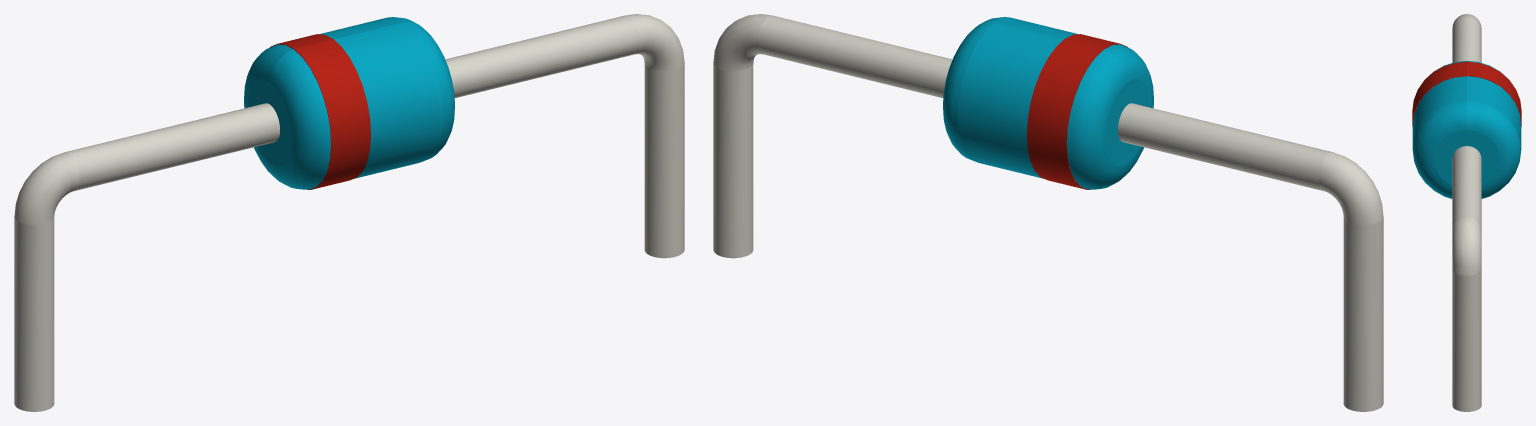
The model's file is kc-d_t-1_p12.70mm_horizontal.glb.
3 views of the same model, side by side, from view 1: azimuth 30°, elevation 25°; view 2: azimuth 150°, elevation 25°; view 3: azimuth 270°, elevation 25° (orthographic). The views are drawn at different scales.
Visible parts, largest first — view 1: 0.6666666666666666_0.6666666666666666_0.5833333333333334_0.8, 0_0.3333333333333333_0.5_0, 0.4166666666666667_0_0_0; view 2: 0.6666666666666666_0.6666666666666666_0.5833333333333334_0.8, 0_0.3333333333333333_0.5_0, 0.4166666666666667_0_0_0; view 3: 0_0.3333333333333333_0.5_0, 0.6666666666666666_0.6666666666666666_0.5833333333333334_0.8, 0.4166666666666667_0_0_0.
Boxes of the visible parts, bbox=[...] form: 0.6666666666666666_0.6666666666666666_0.5833333333333334_0.8: bbox=[14, 14, 684, 411]; 0_0.3333333333333333_0.5_0: bbox=[244, 17, 454, 189]; 0.4166666666666667_0_0_0: bbox=[269, 34, 370, 189]; 0.6666666666666666_0.6666666666666666_0.5833333333333334_0.8: bbox=[713, 14, 1383, 411]; 0_0.3333333333333333_0.5_0: bbox=[943, 17, 1153, 189]; 0.4166666666666667_0_0_0: bbox=[1027, 34, 1128, 189]; 0_0.3333333333333333_0.5_0: bbox=[1412, 61, 1521, 198]; 0.6666666666666666_0.6666666666666666_0.5833333333333334_0.8: bbox=[1452, 14, 1481, 411]; 0.4166666666666667_0_0_0: bbox=[1412, 61, 1521, 126].
Size of the model in its own units: 1.34 by 0.561 by 0.262.
